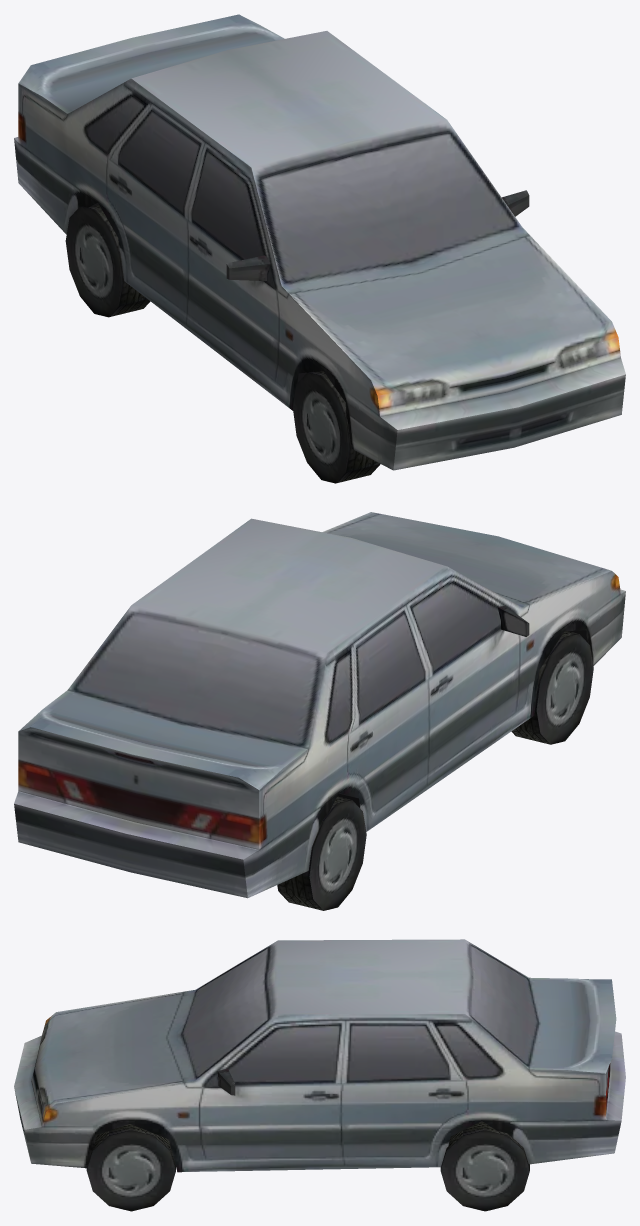
File: traffic-wagon-dark.glb
3 renders of one model, top to bottom at view 1: azimuth 30°, elevation 25°; view 2: azimuth 150°, elevation 25°; view 3: azimuth 270°, elevation 25°, orthographic. The views are drawn at different scales.
Parts seen in each view (by area): view 1: Object_144; view 2: Object_144; view 3: Object_144.
Boxes of the visible parts, <box> form: Object_144: <box>14,14,625,483</box>; Object_144: <box>14,512,625,910</box>; Object_144: <box>14,939,625,1211</box>.
Bounding box in the file's own units: 0.1611 × 0.1241 × 0.3651.
Materials: 1 (1 with a texture image).
